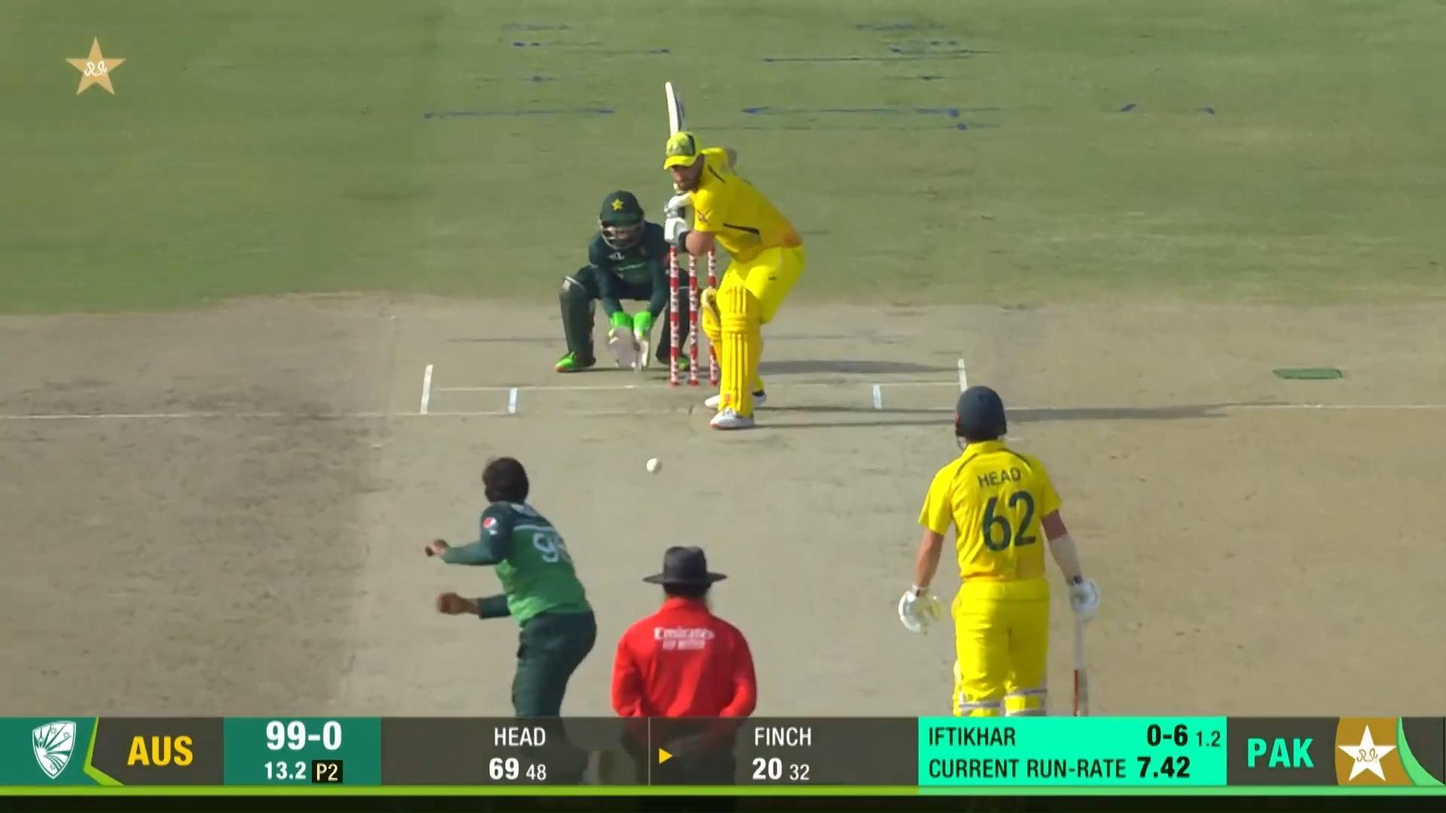BM 1: (665, 82, 805, 431)
BO: (421, 455, 618, 813)
